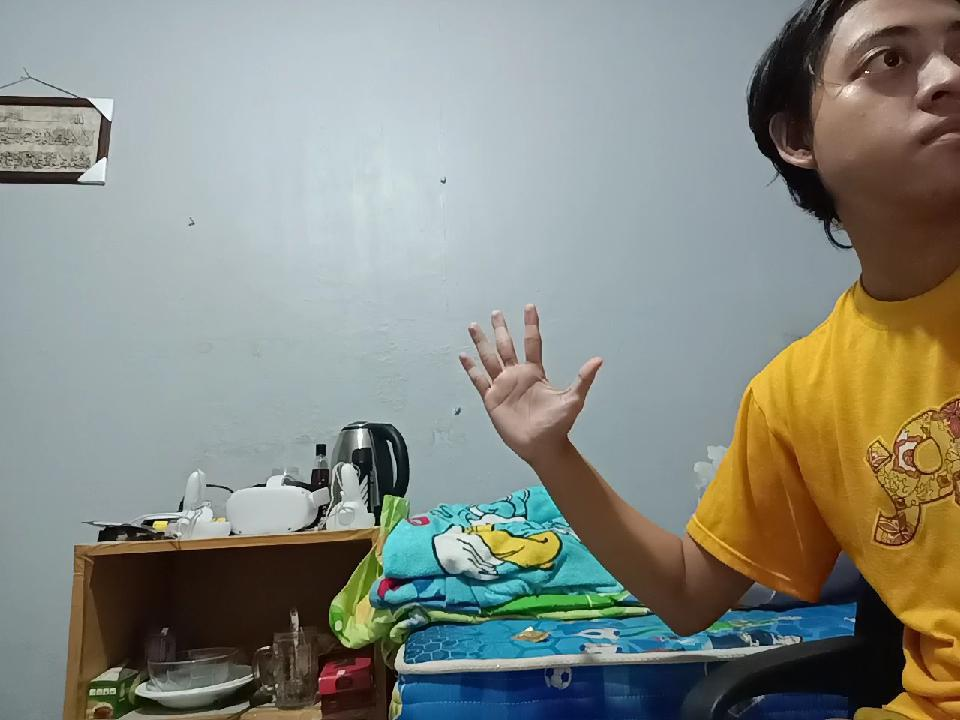paper: (466, 288, 608, 461)
